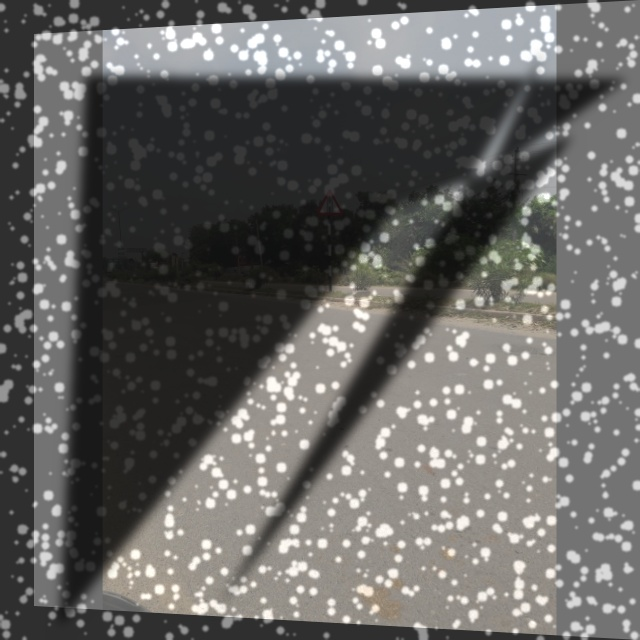Gap_in_Median: (311, 183, 350, 220)
